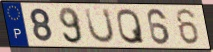6: (175, 8, 201, 47), (146, 7, 171, 46)
8: (29, 6, 54, 43)
9: (58, 5, 85, 45)
Q: (116, 8, 146, 46)
U: (83, 7, 116, 45)
